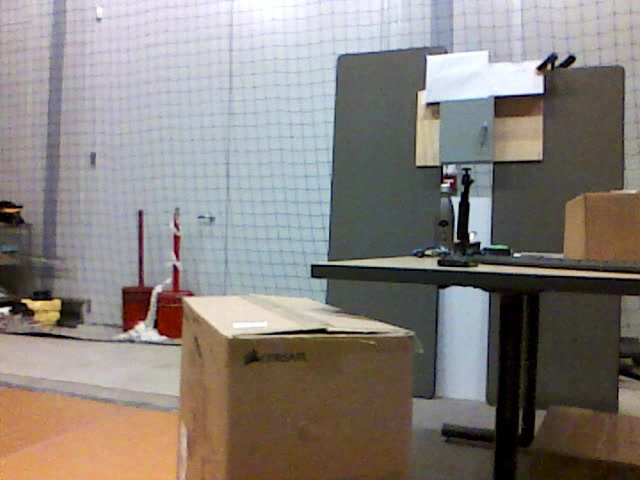box: (181, 295, 414, 480), (528, 408, 640, 477), (564, 190, 640, 258)
